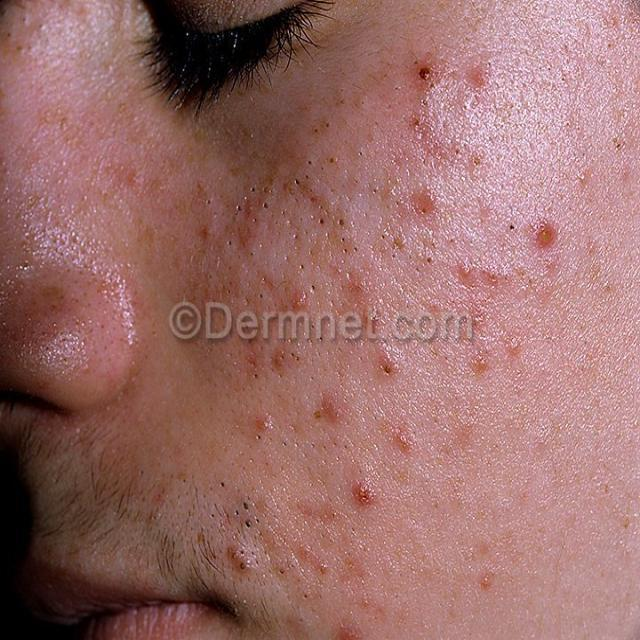blackhead: (333, 73, 403, 128), (292, 438, 354, 465), (266, 207, 308, 244), (290, 186, 318, 207), (281, 180, 296, 198), (218, 278, 236, 291), (418, 65, 432, 80), (289, 348, 301, 365), (267, 352, 276, 374), (565, 121, 582, 132), (613, 136, 623, 152), (412, 116, 423, 130), (248, 182, 258, 196), (336, 217, 346, 230), (280, 336, 294, 345), (292, 176, 302, 188), (391, 240, 401, 252), (355, 147, 364, 160), (328, 154, 337, 167), (312, 410, 322, 421), (323, 118, 332, 129), (421, 98, 432, 107), (443, 354, 457, 361), (306, 156, 314, 168), (262, 184, 270, 196), (244, 518, 252, 530), (268, 174, 275, 187), (312, 126, 321, 136), (242, 501, 250, 512), (319, 564, 327, 575), (473, 156, 481, 167), (317, 164, 325, 174), (231, 214, 239, 224), (218, 479, 226, 489), (239, 561, 247, 571), (288, 562, 298, 570), (235, 201, 241, 214), (246, 205, 253, 216), (138, 467, 145, 478), (248, 250, 257, 258), (383, 366, 392, 374), (245, 224, 252, 234), (151, 512, 157, 523), (262, 202, 270, 210), (279, 567, 287, 575), (248, 457, 256, 465), (508, 224, 516, 232), (304, 172, 311, 181), (331, 511, 338, 520), (226, 238, 232, 248), (318, 216, 324, 226), (279, 352, 285, 362), (252, 371, 258, 381), (255, 558, 261, 568), (415, 266, 421, 276), (241, 240, 248, 248), (235, 225, 242, 233), (310, 284, 317, 292), (258, 292, 265, 300), (226, 264, 233, 272), (235, 253, 242, 261), (246, 338, 253, 346), (318, 335, 325, 343), (350, 526, 357, 534), (347, 562, 354, 570), (426, 256, 434, 263), (353, 178, 360, 186), (252, 214, 258, 223), (234, 508, 240, 517), (181, 476, 187, 485), (319, 592, 324, 602), (491, 272, 496, 282), (223, 203, 230, 210), (340, 236, 347, 243), (201, 493, 208, 500), (140, 495, 147, 502), (329, 187, 336, 194), (428, 84, 436, 90), (318, 203, 324, 211), (342, 246, 348, 254), (207, 274, 213, 282), (258, 344, 264, 352), (282, 440, 288, 448), (254, 516, 260, 524), (231, 552, 237, 560), (251, 549, 257, 557), (298, 616, 304, 624), (363, 545, 369, 553), (212, 210, 217, 219), (300, 261, 304, 272), (206, 199, 212, 206), (352, 246, 358, 253), (309, 323, 316, 329), (309, 375, 316, 381), (256, 434, 262, 441), (208, 486, 215, 492), (372, 187, 378, 194), (581, 150, 587, 157), (461, 104, 467, 111), (404, 303, 410, 310), (227, 288, 232, 296), (308, 338, 313, 346), (431, 242, 436, 250), (454, 148, 459, 156), (263, 550, 269, 556), (358, 467, 362, 476), (395, 200, 401, 206), (220, 210, 225, 217), (303, 592, 308, 599), (380, 233, 385, 240), (278, 372, 282, 380), (392, 252, 396, 260), (450, 236, 454, 244), (422, 207, 426, 215), (504, 275, 508, 283), (295, 577, 301, 582), (572, 152, 577, 158), (547, 65, 552, 71), (538, 66, 543, 72), (607, 43, 612, 49), (561, 77, 566, 82), (211, 512, 215, 518), (240, 550, 244, 556), (409, 254, 413, 260), (265, 461, 269, 466)
fungal: (322, 390, 349, 423)
